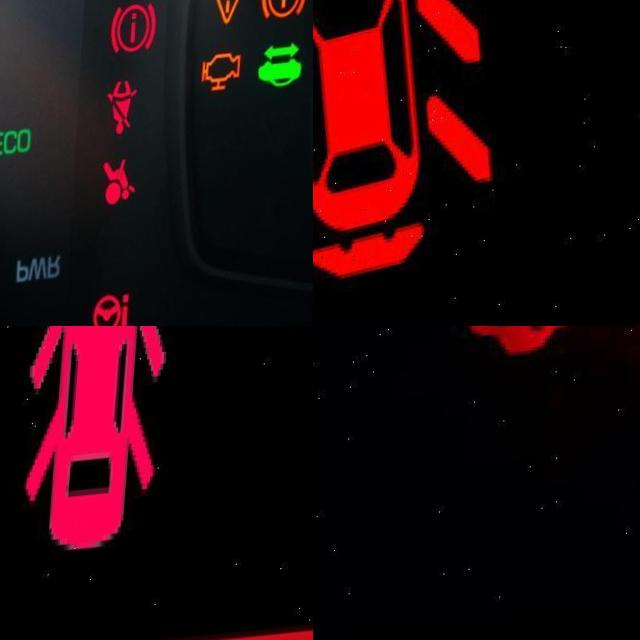Electronic Power Steering: (99, 296, 143, 326)
Seat Belt: (110, 84, 146, 141)
